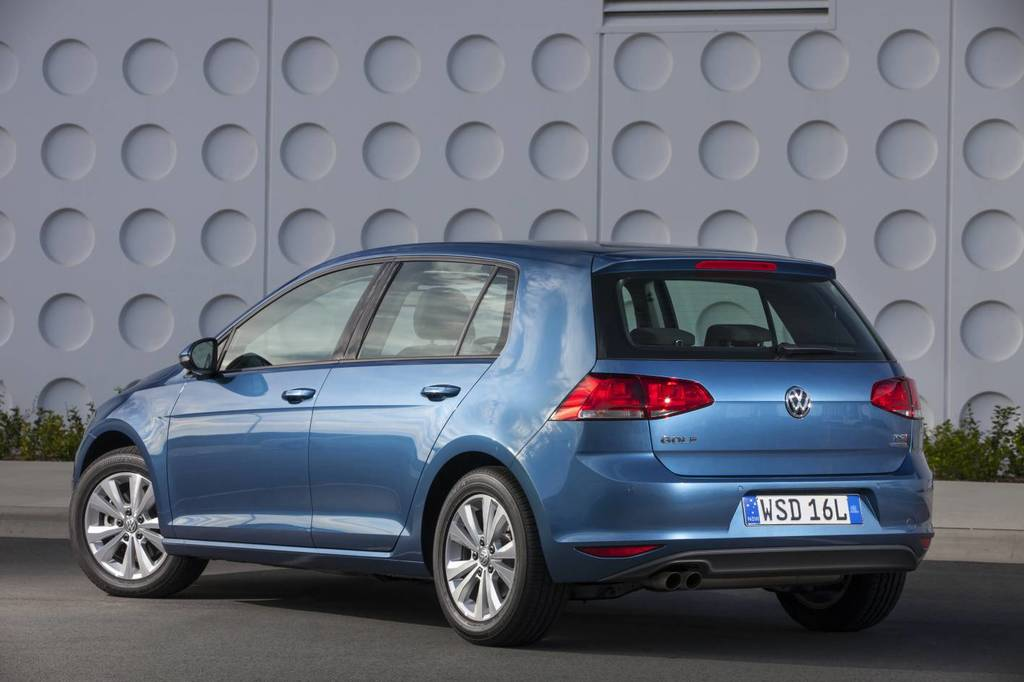Car: (45, 249, 934, 665)
